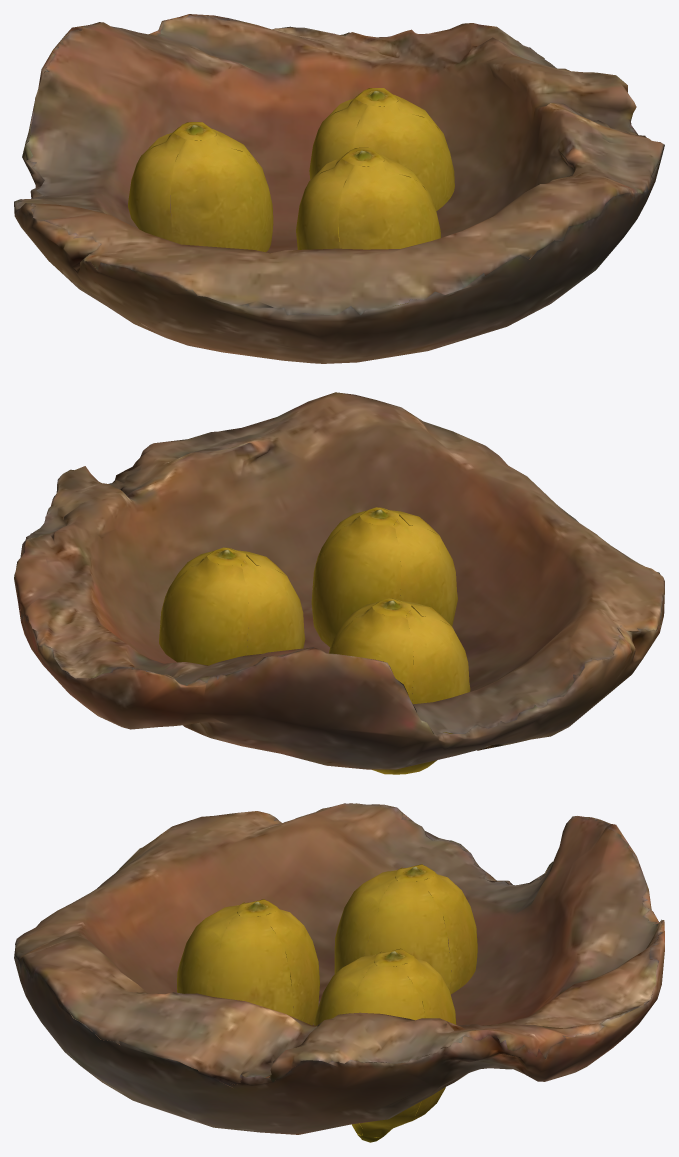
File: fruit-bowl-balanced-e5a05a1466.glb
3 views of the same model, one above another, from view 1: azimuth 30°, elevation 25°; view 2: azimuth 150°, elevation 25°; view 3: azimuth 270°, elevation 25° (orthographic). The views are drawn at different scales.
Parts seen in each view (by area): view 1: wooden_bowl_01; view 2: wooden_bowl_01; view 3: wooden_bowl_01.
Part boxes in pixels (<box>): wooden_bowl_01: <box>14,14,664,363</box>; wooden_bowl_01: <box>14,392,664,774</box>; wooden_bowl_01: <box>14,803,664,1142</box>.
Size of the model in its own units: 0.3131 by 0.1118 by 0.3094.
Materials: 4 (4 with a texture image).
